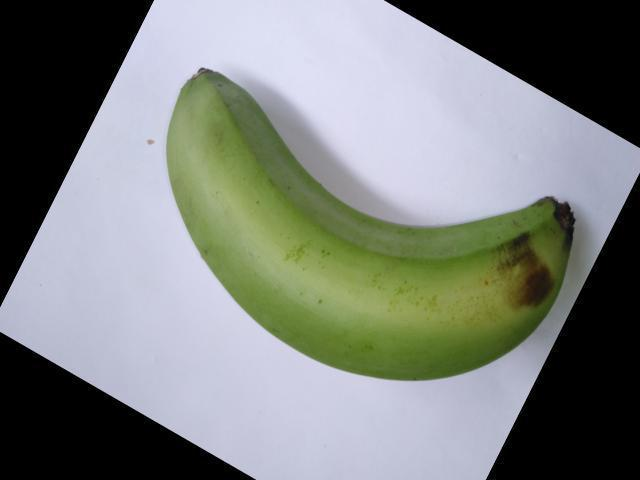freshunripe: (153, 50, 596, 406)
